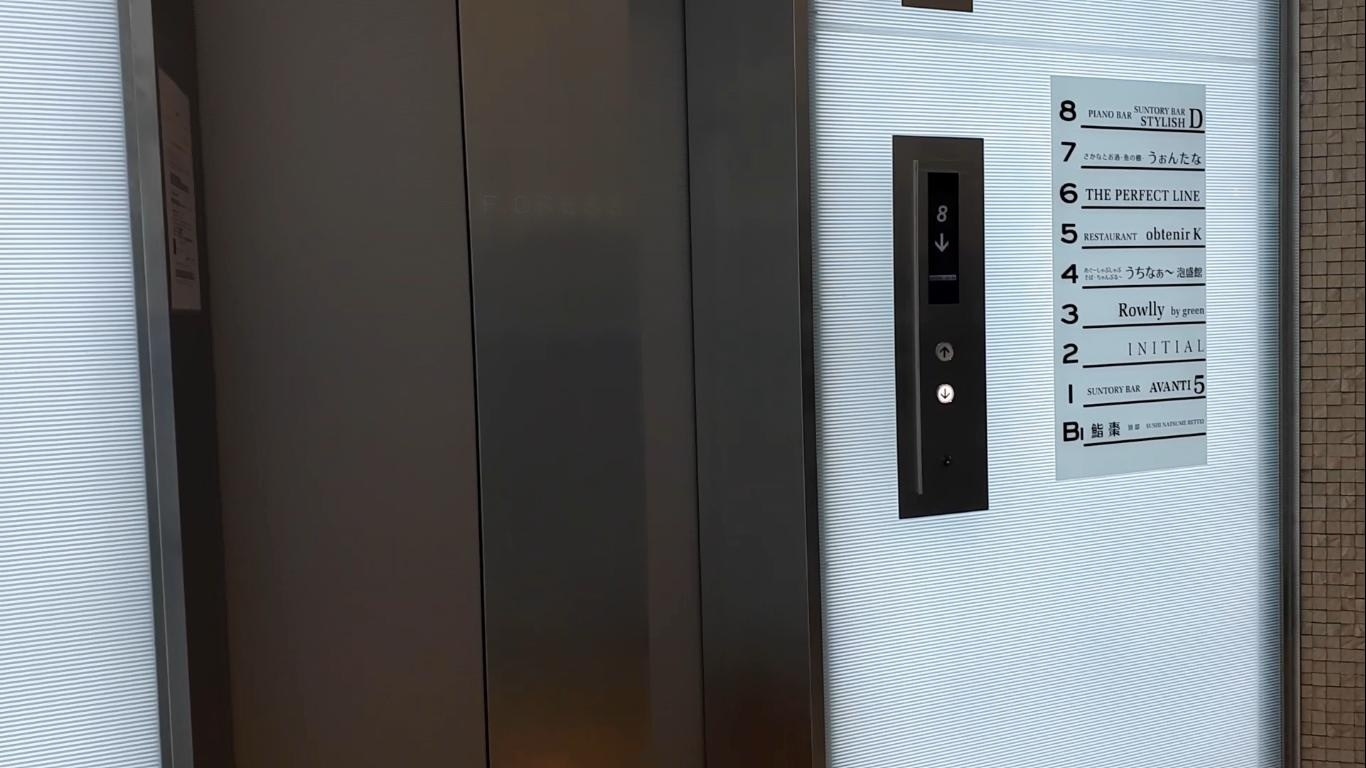down: (934, 380, 955, 406)
led: (924, 168, 962, 306)
up: (933, 338, 956, 365)
